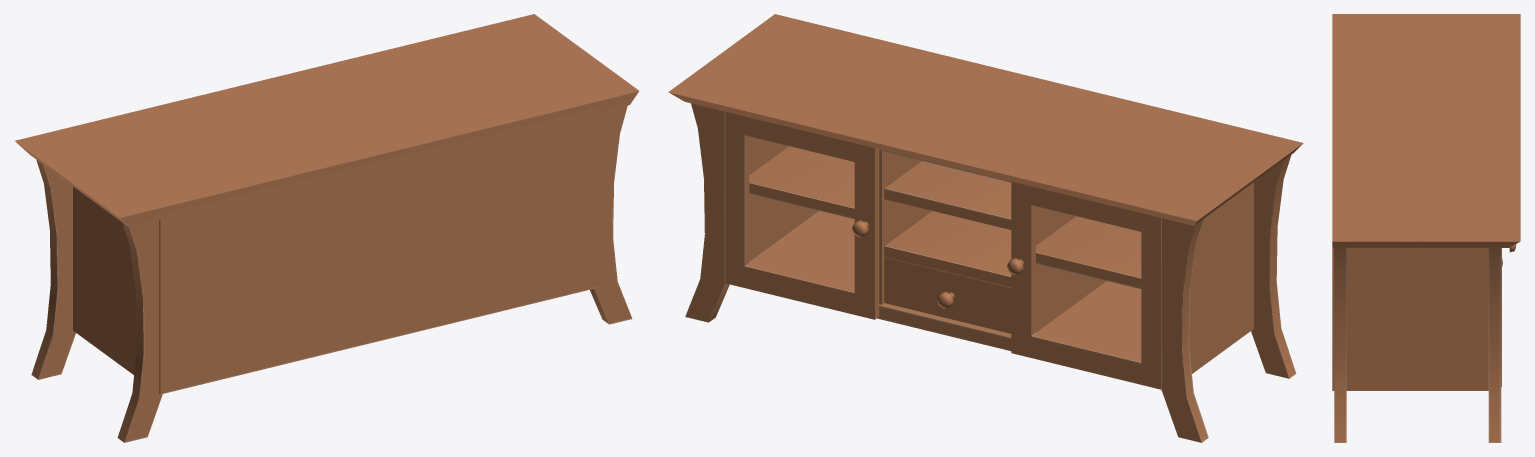
The model's file is TVdesk.fbx.
3 renders of one model, left to right at view 1: azimuth 30°, elevation 25°; view 2: azimuth 150°, elevation 25°; view 3: azimuth 270°, elevation 25°, orthographic. The views are drawn at different scales.
Visible parts, largest first — view 1: node_id80; view 2: node_id80, node_id82; view 3: node_id80.
Boxes of the visible parts, bbox=[...] form: node_id80: bbox=[15, 14, 638, 442]; node_id80: bbox=[668, 14, 1303, 442]; node_id82: bbox=[852, 220, 1023, 308]; node_id80: bbox=[1332, 14, 1520, 442].
Bounding box in the file's own units: 0.512 × 0.2141 × 0.1792.
Materials: 2 (2 with a texture image).
